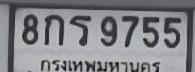5: (163, 16, 180, 47), (142, 16, 158, 47)
7: (121, 15, 138, 46)
8: (21, 13, 37, 44)
9: (100, 15, 116, 46)
A01: (43, 14, 63, 45)
A35: (69, 14, 91, 45)
BKK: (37, 56, 164, 72)
